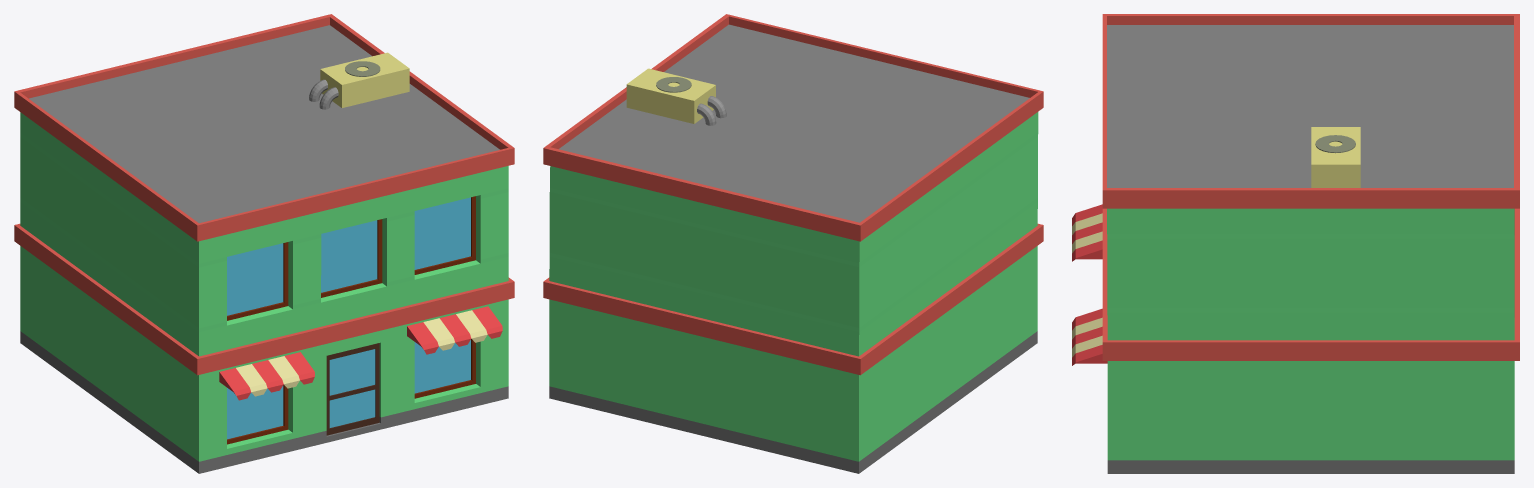
The model's file is SM_Building05.fbx.
The picture shows the model from 3 angles, left to right: view 1: azimuth 30°, elevation 25°; view 2: azimuth 150°, elevation 25°; view 3: azimuth 270°, elevation 25°; orthographic projection. The views are drawn at different scales.
Parts seen in each view (by area): view 1: SM_Building05; view 2: SM_Building05; view 3: SM_Building05.
Boxes of the visible parts, x1=… form: SM_Building05: x1=14, y1=14, x2=514, y2=473; SM_Building05: x1=543, y1=14, x2=1043, y2=473; SM_Building05: x1=1072, y1=14, x2=1519, y2=473.
Size of the model in its own units: 410 by 331 by 440.
